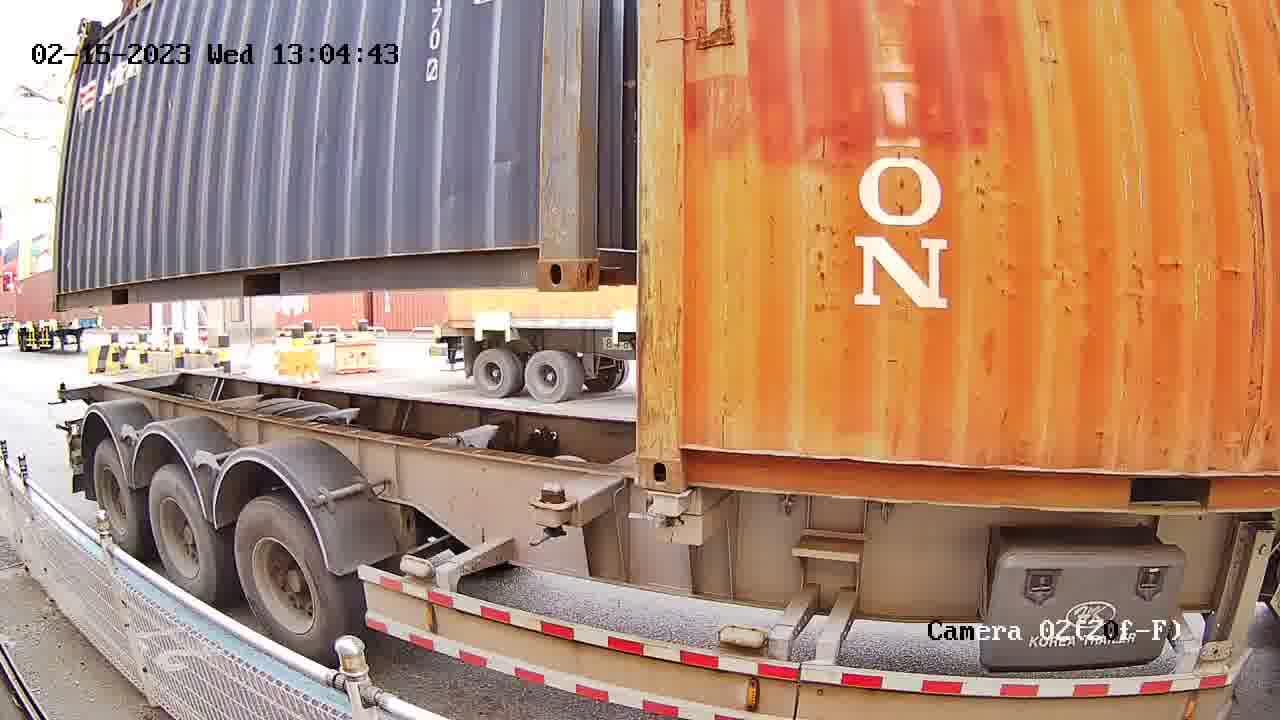Cone: (532, 480, 569, 543), (639, 491, 692, 527)
Hole_L: (636, 410, 738, 488), (576, 213, 635, 288)
Hole_R: (504, 210, 576, 291)
Tire: (233, 503, 342, 656), (149, 476, 216, 596), (91, 449, 134, 541)
